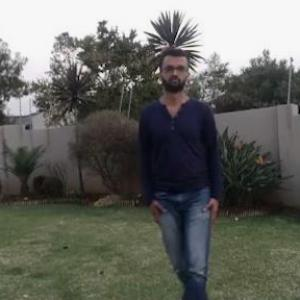follow: (141, 46, 226, 299)
